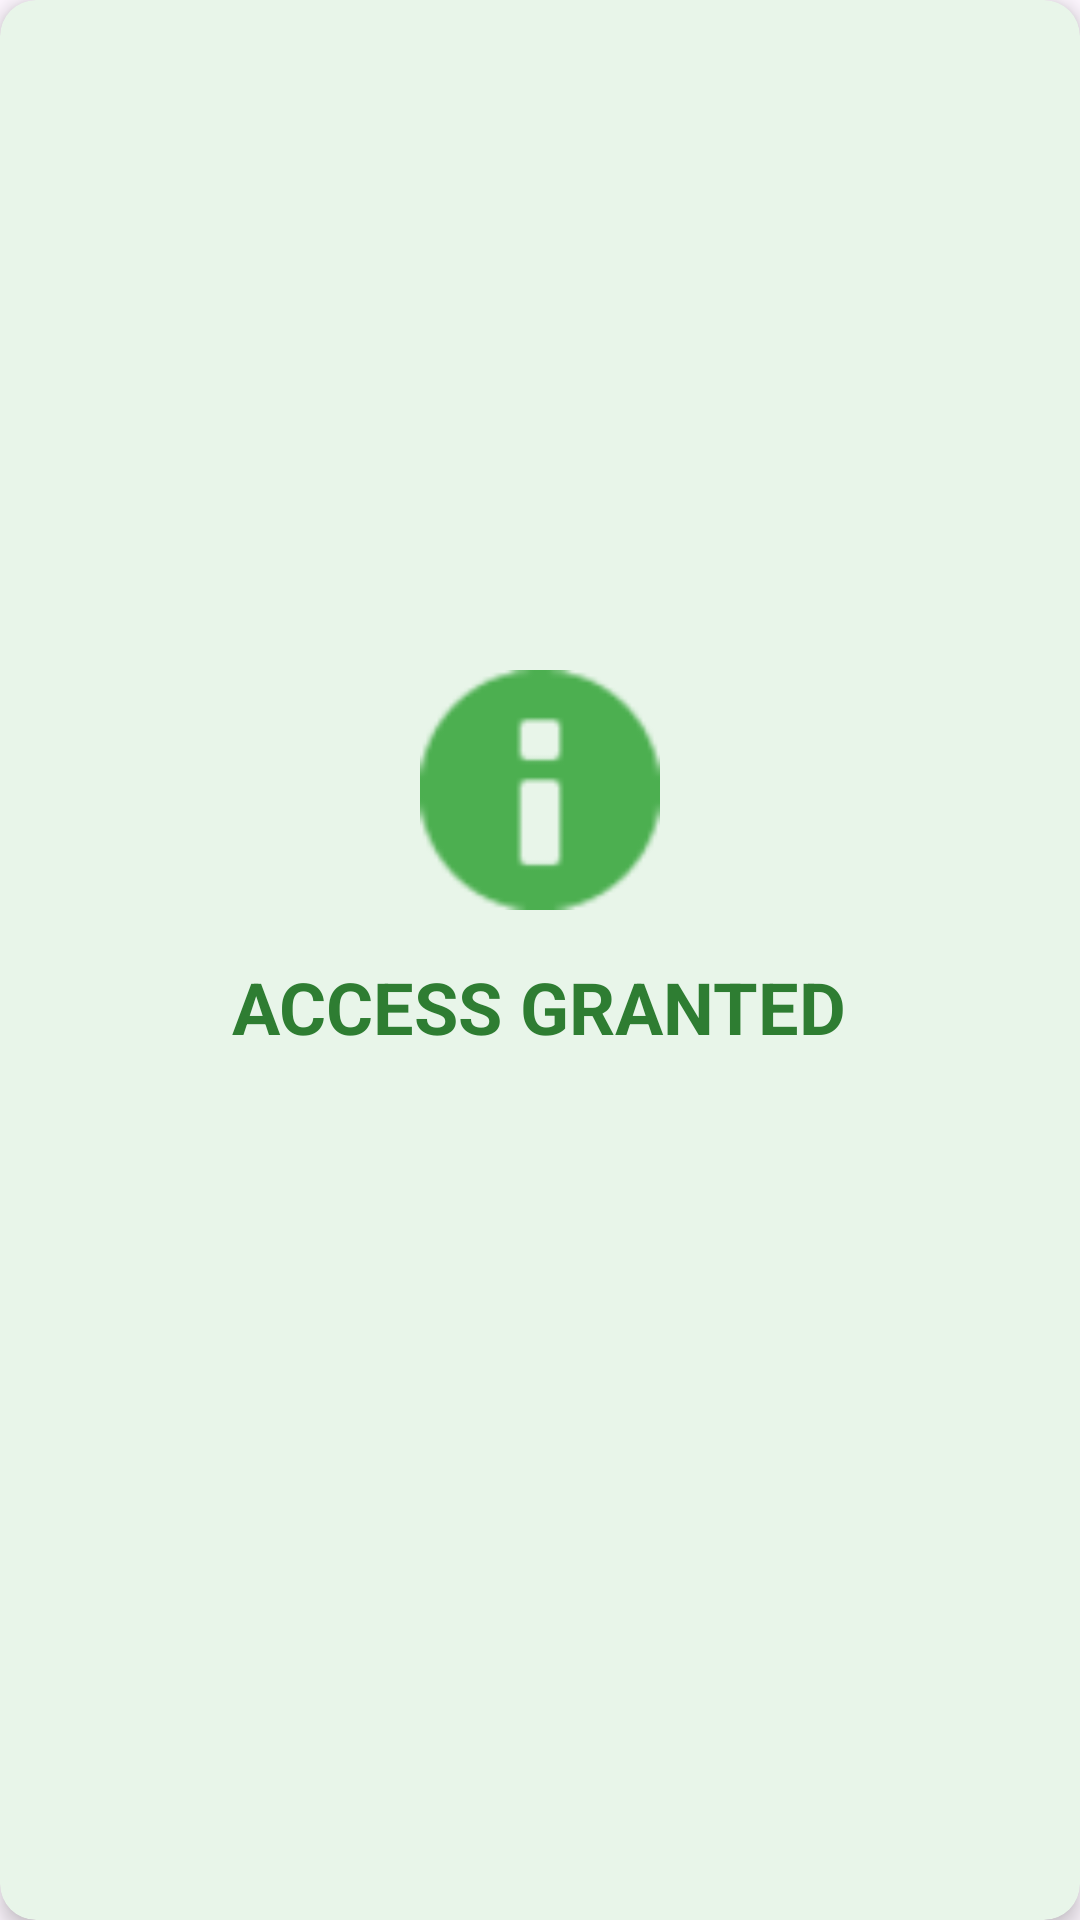

Named icons in this screenshot (1080w x 1920h) and their centers, (x=x, y=y):
info: (x=540, y=790)
